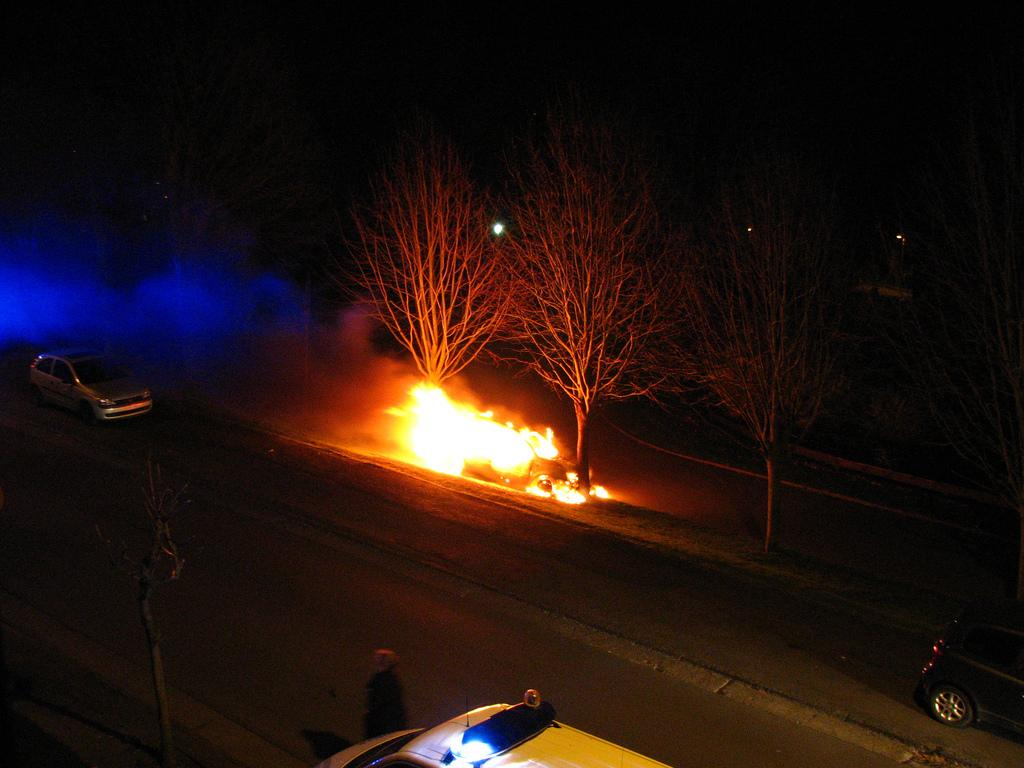fire: (408, 400, 554, 482)
